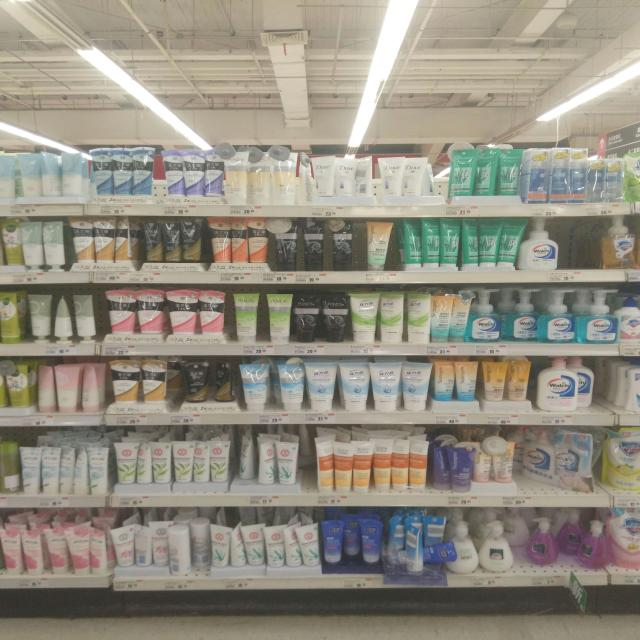empty_space: (564, 226, 596, 266)
